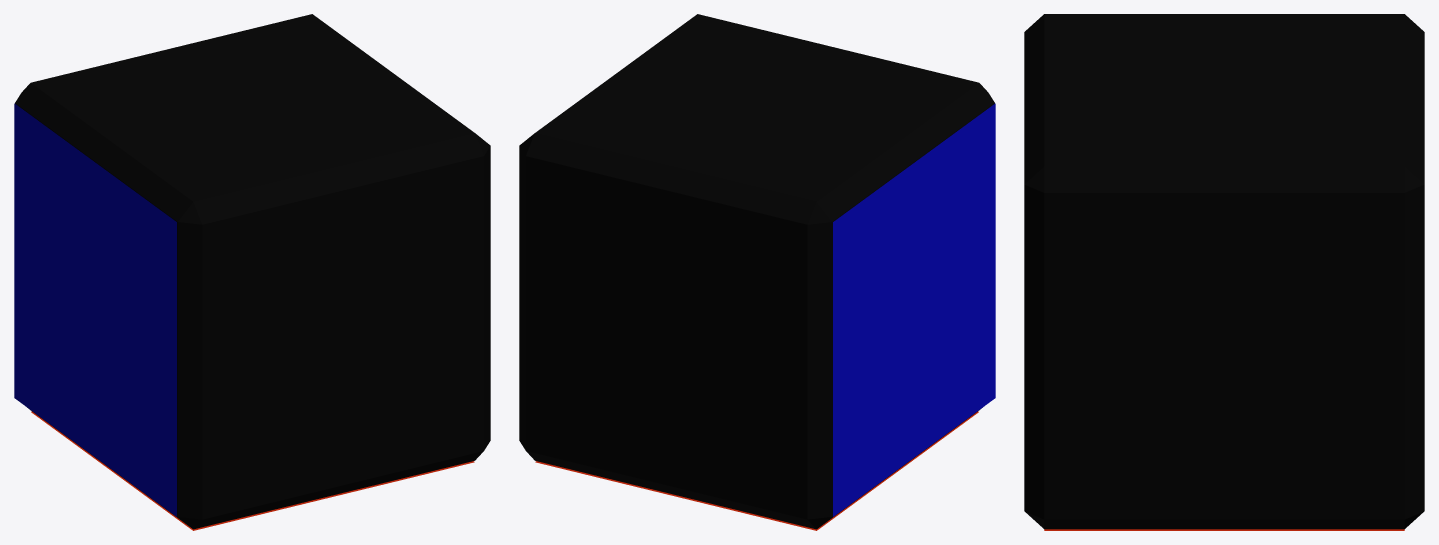
Rendered from rubic26.obj.
3 views of the same model, side by side, from view 1: azimuth 30°, elevation 25°; view 2: azimuth 150°, elevation 25°; view 3: azimuth 270°, elevation 25° (orthographic). The views are drawn at different scales.
Parts seen in each view (by area): view 1: Cube.026_Cube.030; view 2: Cube.026_Cube.030; view 3: Cube.026_Cube.030.
Boxes of the visible parts, x1,y1,x2,y2 form: Cube.026_Cube.030: [14, 14, 490, 530]; Cube.026_Cube.030: [519, 14, 995, 530]; Cube.026_Cube.030: [1024, 14, 1424, 530].
Size of the model in its own units: 2 by 2.01 by 2.
